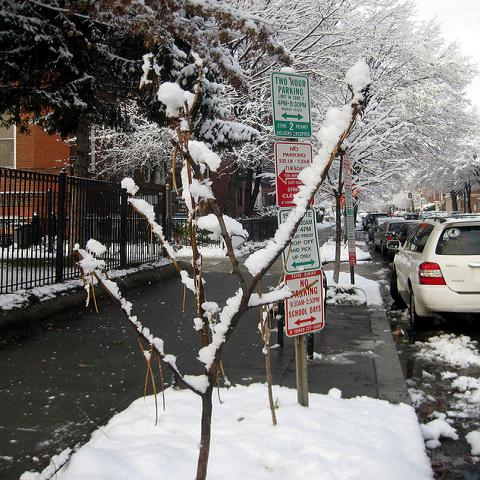car: (388, 216, 478, 332), (373, 219, 421, 262), (384, 222, 418, 262), (368, 217, 406, 241), (368, 214, 391, 228), (360, 214, 378, 230), (402, 212, 419, 220), (358, 212, 369, 222), (382, 211, 393, 217)
